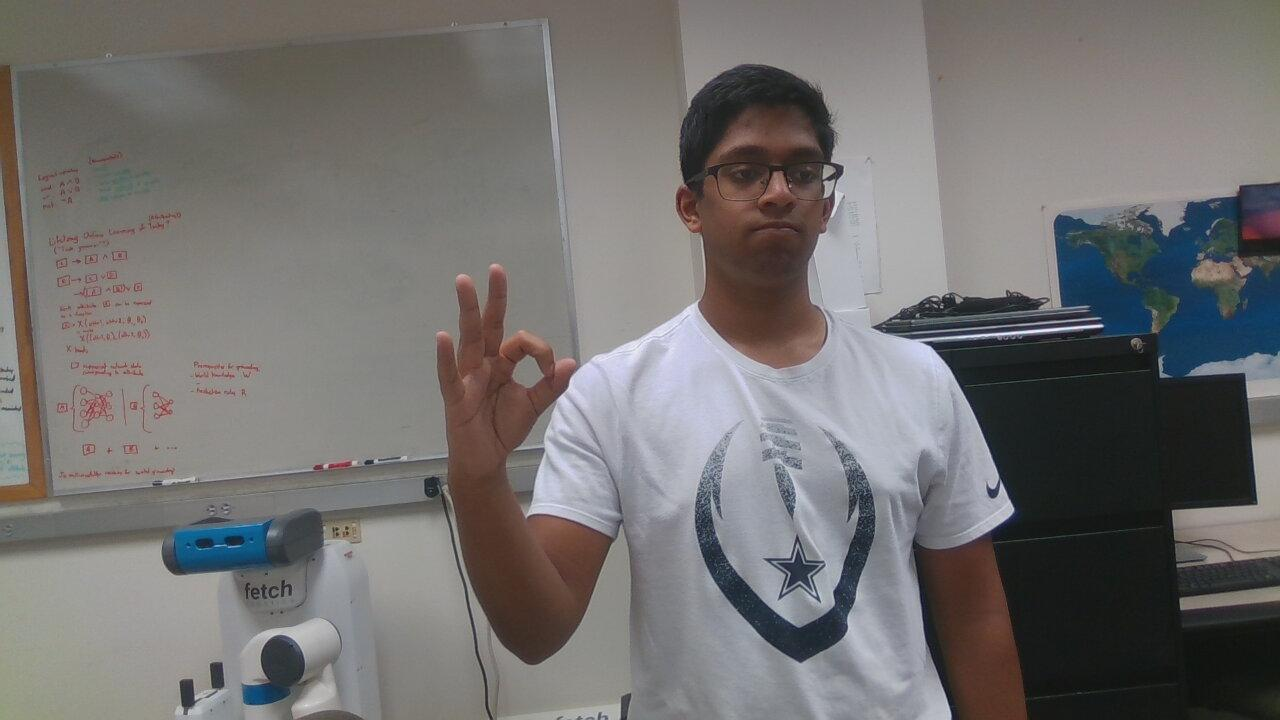hands: (428, 252, 587, 475)
